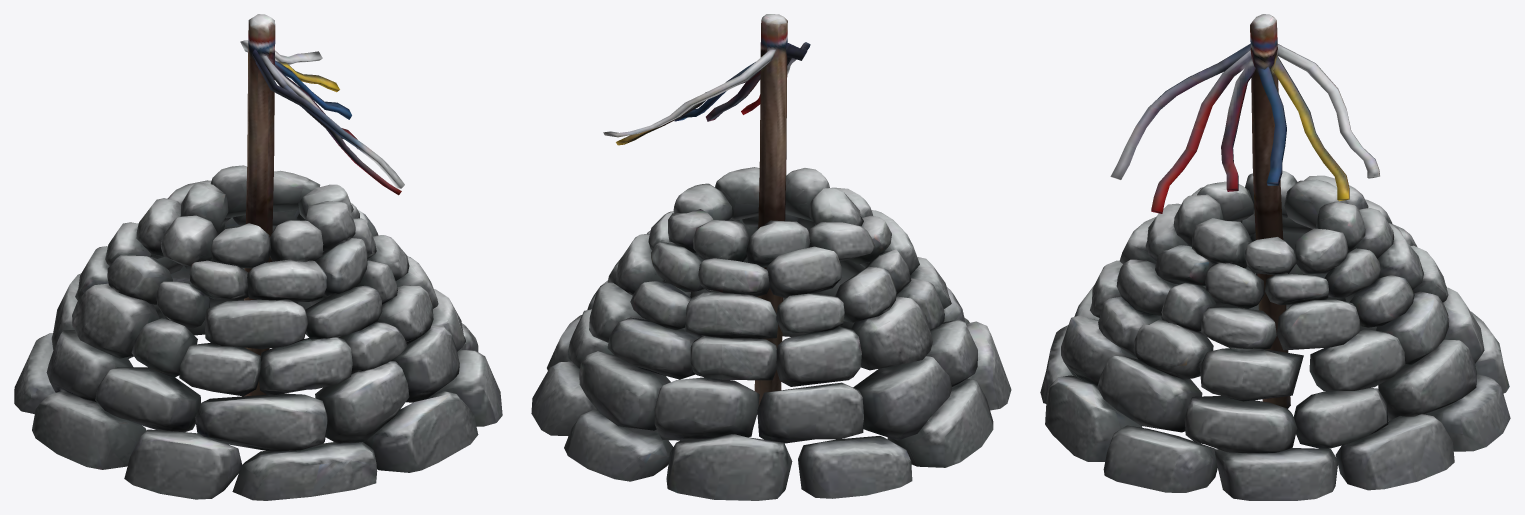
File: p_geum.glb
3 views of the same model, side by side, from view 1: azimuth 30°, elevation 25°; view 2: azimuth 150°, elevation 25°; view 3: azimuth 270°, elevation 25° (orthographic).
Visible parts, largest first — view 1: tripo_node_5d739f7a-bbed-481e-84b4-96310963f4be; view 2: tripo_node_5d739f7a-bbed-481e-84b4-96310963f4be; view 3: tripo_node_5d739f7a-bbed-481e-84b4-96310963f4be.
Part boxes in pixels (left/top/right/bottom): tripo_node_5d739f7a-bbed-481e-84b4-96310963f4be: left=14, top=14, right=502, bottom=500; tripo_node_5d739f7a-bbed-481e-84b4-96310963f4be: left=531, top=14, right=1011, bottom=500; tripo_node_5d739f7a-bbed-481e-84b4-96310963f4be: left=1040, top=14, right=1510, bottom=500.
Size of the model in its own units: 0.998 by 0.9004 by 0.9864.
Materials: 1 (1 with a texture image).
